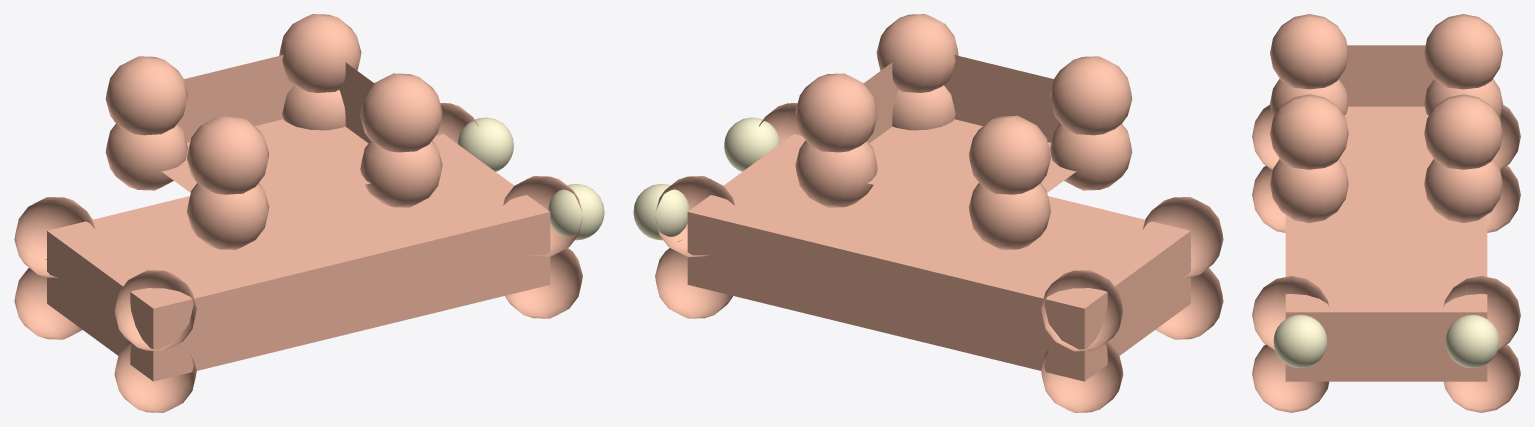
File: car.glb
3 renders of one model, left to right at view 1: azimuth 30°, elevation 25°; view 2: azimuth 150°, elevation 25°; view 3: azimuth 270°, elevation 25°, orthographic. The views are drawn at different scales.
Visible parts, largest first — view 1: car; view 2: car; view 3: car.
Boxes of the visible parts, x1,y1,x2,y2 form: car: [14, 14, 604, 412]; car: [633, 14, 1223, 412]; car: [1252, 14, 1520, 412].
Size of the model in its own units: 2.97 by 1.55 by 1.5.
